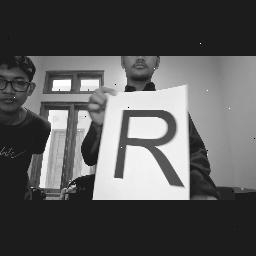r: (112, 106, 194, 194)
